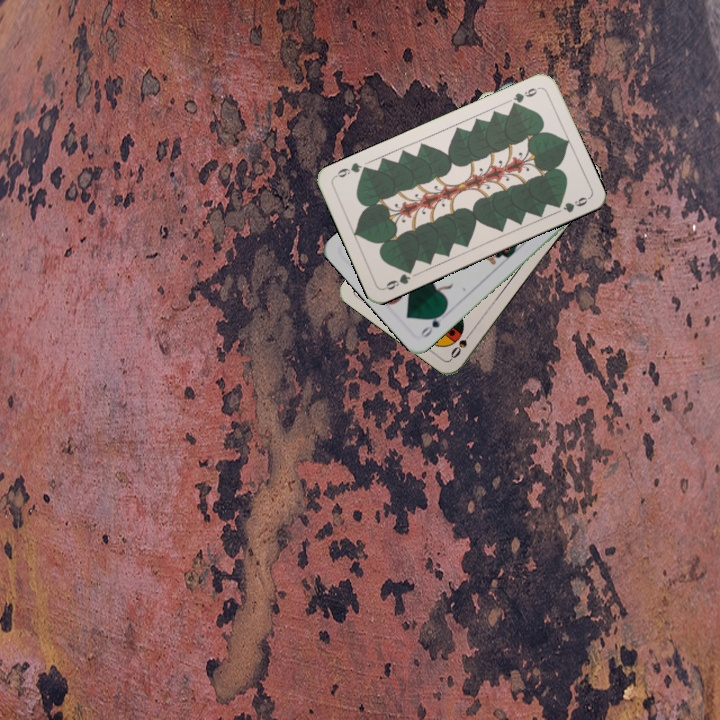G9: (380, 264, 415, 293), (507, 83, 542, 110)
GO: (416, 307, 448, 341)
SO: (446, 326, 476, 361)
